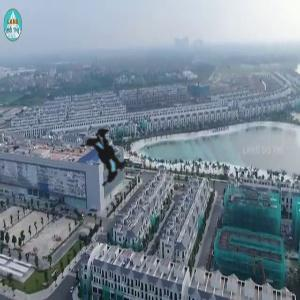drone: (27, 75, 186, 234)
